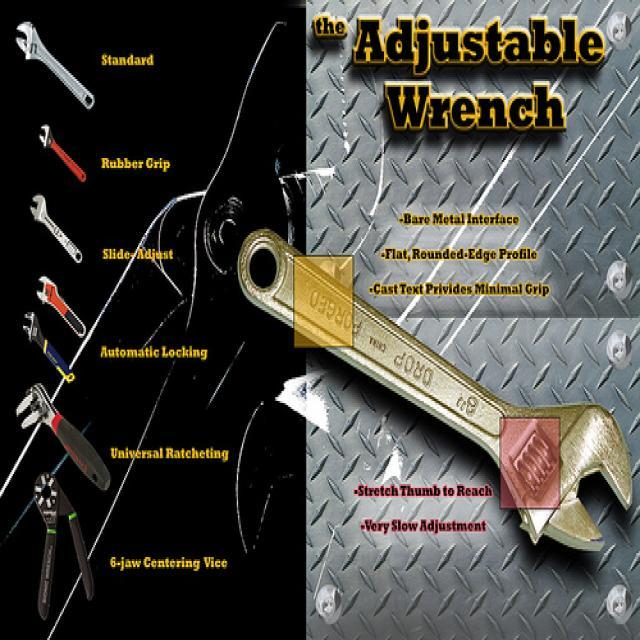wrench: (236, 223, 636, 558), (15, 381, 115, 496), (13, 19, 97, 112), (28, 190, 88, 271), (18, 306, 76, 386), (34, 118, 90, 186), (36, 270, 88, 340)
